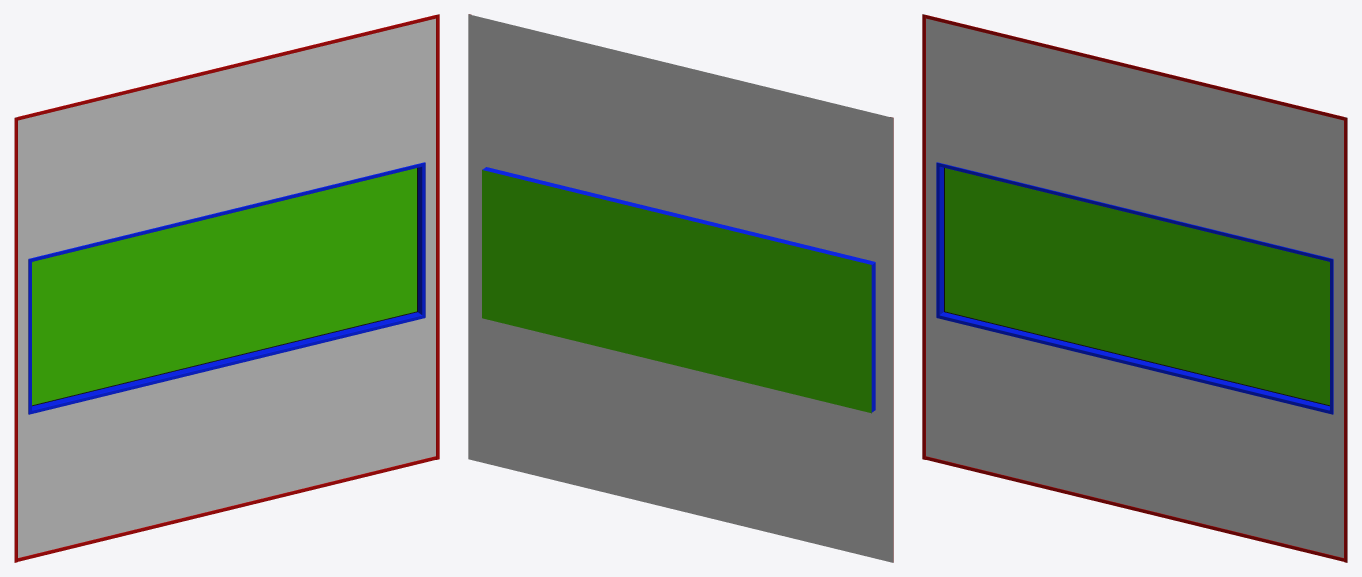
The model's file is Wall02Window.fbx.
3 renders of one model, left to right at view 1: azimuth 30°, elevation 25°; view 2: azimuth 150°, elevation 25°; view 3: azimuth 330°, elevation 25°, orthographic.
Parts seen in each view (by area): view 1: Wall02Window; view 2: Wall02Window; view 3: Wall02Window.
Boxes of the visible parts, box(x1,y1,x2,y2) form: Wall02Window: box(14, 14, 439, 562); Wall02Window: box(468, 14, 893, 562); Wall02Window: box(922, 14, 1347, 562).
Size of the model in its own units: 300 by 300 by 5.5.
